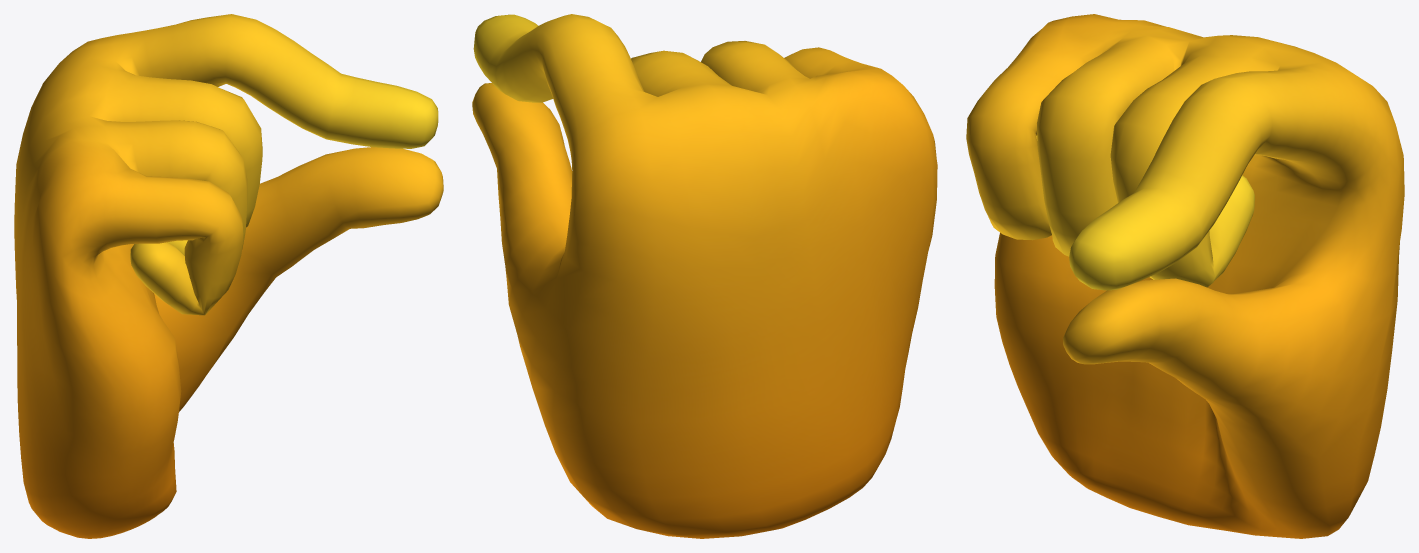
File: pinching_hand.gltf
The picture shows the model from 3 angles, left to right: view 1: azimuth 30°, elevation 25°; view 2: azimuth 150°, elevation 25°; view 3: azimuth 270°, elevation 25°; orthographic projection. The views are drawn at different scales.
Visible parts, largest first — view 1: hand.007; view 2: hand.007; view 3: hand.007.
Boxes of the visible parts, box(x1,y1,x2,y2) form: hand.007: box(14, 14, 443, 538); hand.007: box(472, 14, 937, 538); hand.007: box(966, 14, 1404, 538).
Size of the model in its own units: 1.58 by 1.62 by 1.25.
2 materials, 2 textured.
